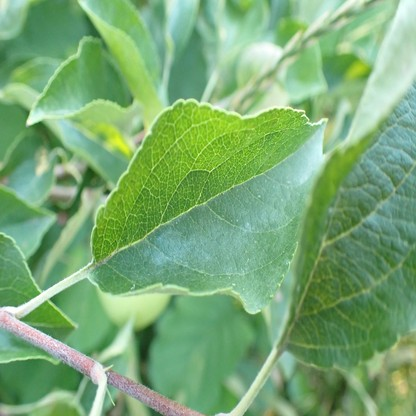powder: (143, 124, 325, 314)
